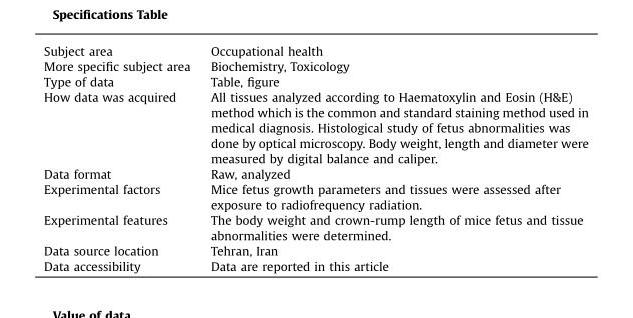table: (43, 43, 587, 272)
table column: (199, 43, 587, 272), (43, 43, 199, 272)
table row: (43, 88, 587, 165), (43, 211, 587, 242), (43, 181, 587, 211), (43, 165, 587, 181), (43, 43, 587, 58), (43, 58, 587, 73), (43, 73, 587, 88), (43, 242, 587, 257), (43, 257, 587, 272)
